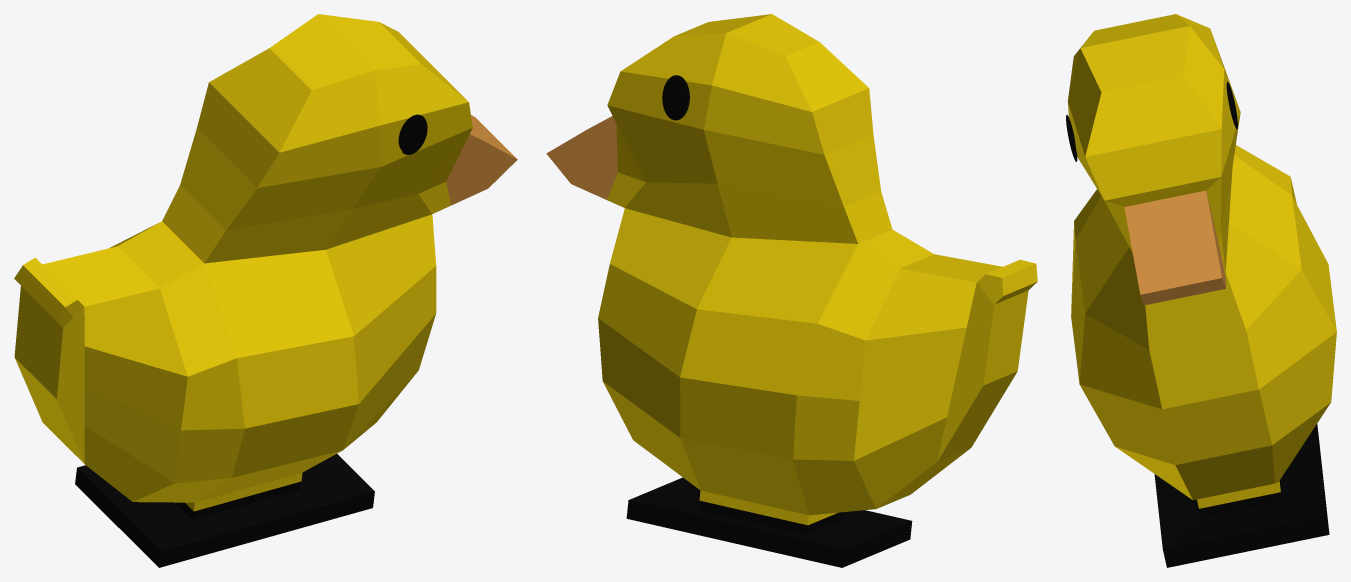
File: patoamarilloTAB3.glb
3 views of the same model, side by side, from view 1: azimuth 30°, elevation 25°; view 2: azimuth 150°, elevation 25°; view 3: azimuth 270°, elevation 25° (orthographic). The views are drawn at different scales.
Parts seen in each view (by area): view 1: Cube.002, Sphere; view 2: Cube.002, Sphere.001; view 3: Cube.002.
Part boxes in pixels (<box>): Cube.002: <box>14,14,517,567</box>; Sphere: <box>398,114,427,154</box>; Cube.002: <box>546,14,1037,567</box>; Sphere.001: <box>662,75,689,120</box>; Cube.002: <box>1067,14,1336,567</box>.
Size of the model in its own units: 2.88 by 2.9 by 1.36.
